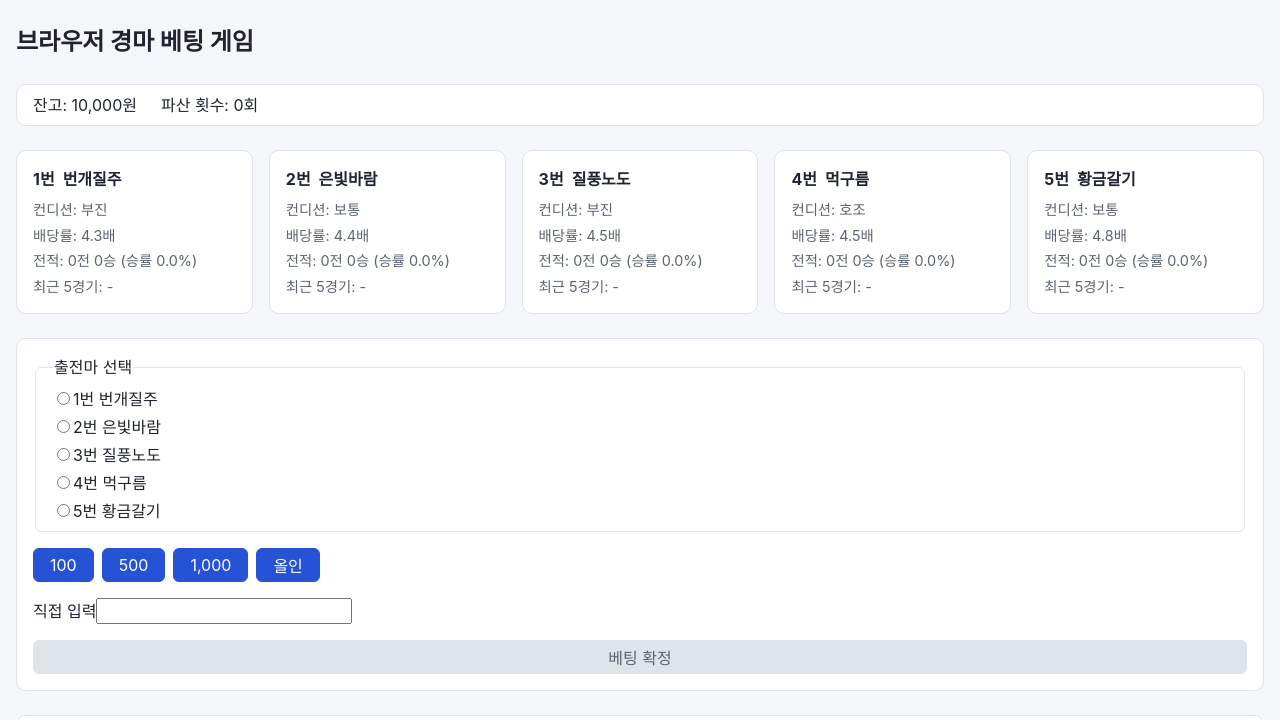
Test: App › 화면 컴포지션: phase에 따라 로비/경주/정산 화면이 조립된다 › countdown→racing→finish→settlement까지 화면이 전환되며 SettlementResult가 적중/지급액/정산 후 잔고를 렌더링한다
Click the radio button labelled "1번 번개질주" at (64, 399), box left=57, top=392, right=70, bottom=405
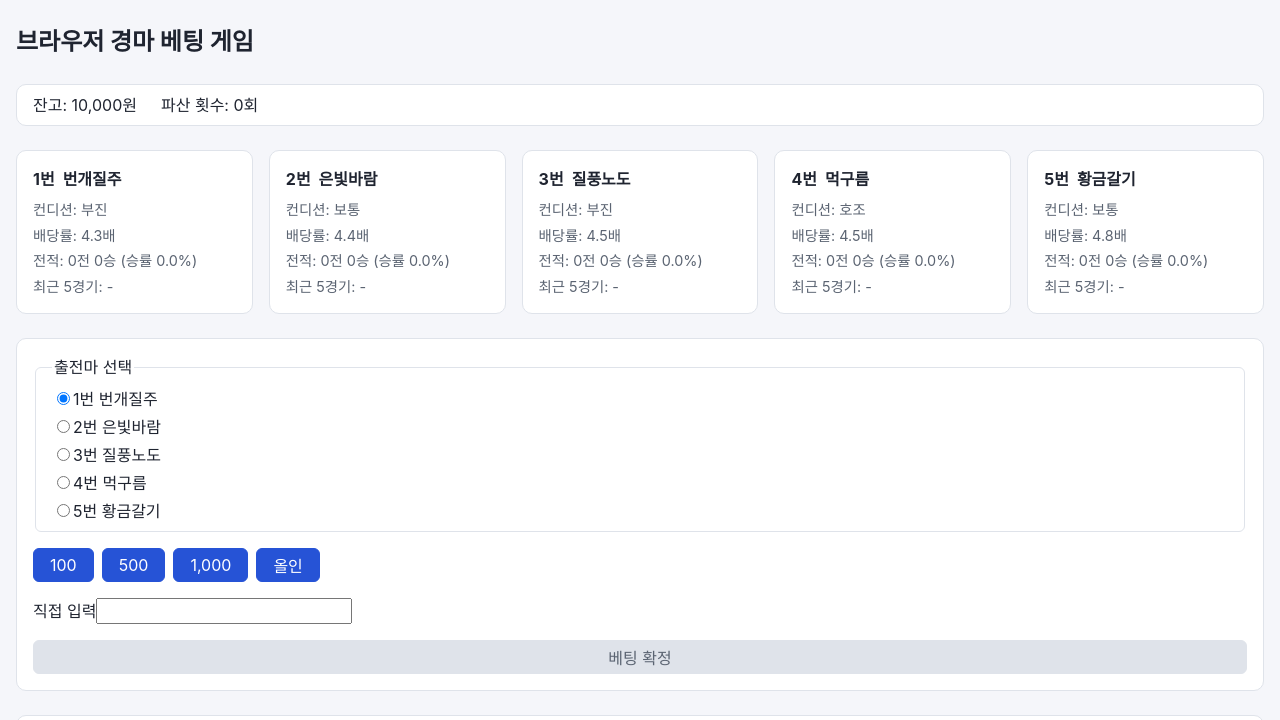
Click the button "100" at (63, 565), box left=33, top=548, right=94, bottom=582
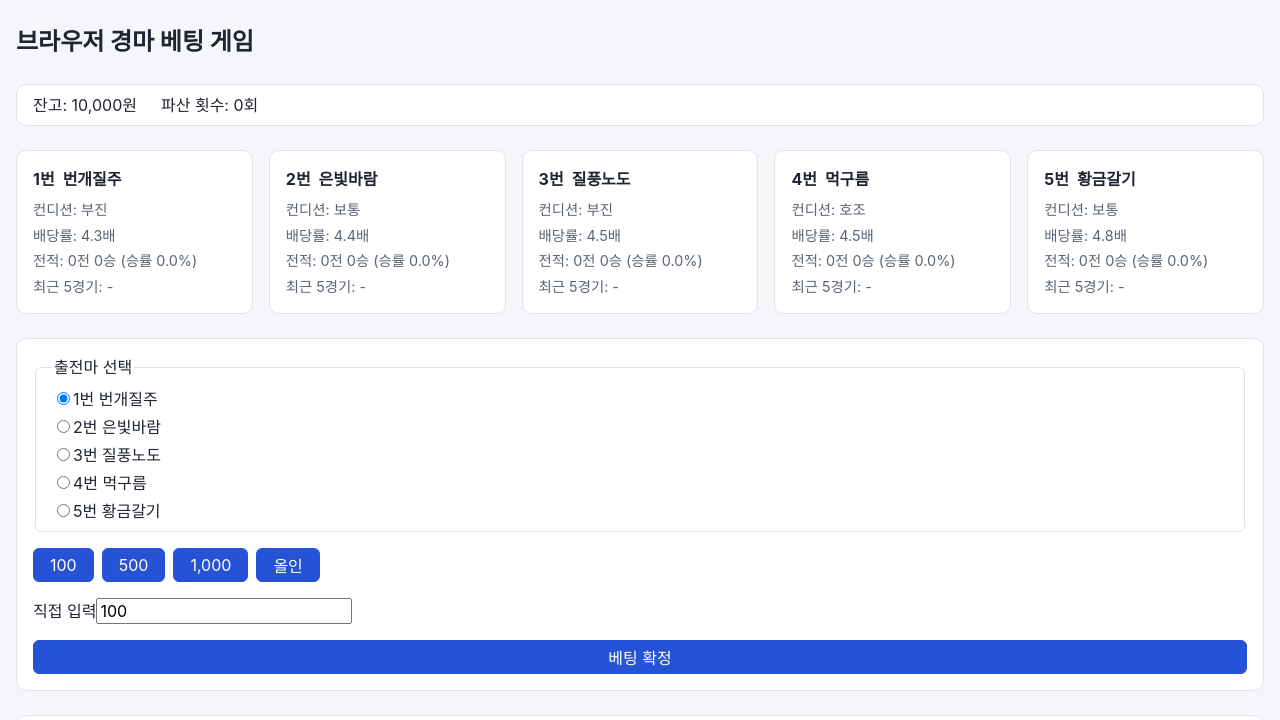
Click the button "베팅 확정" at (640, 657), box left=33, top=640, right=1247, bottom=674
(page scrolled)
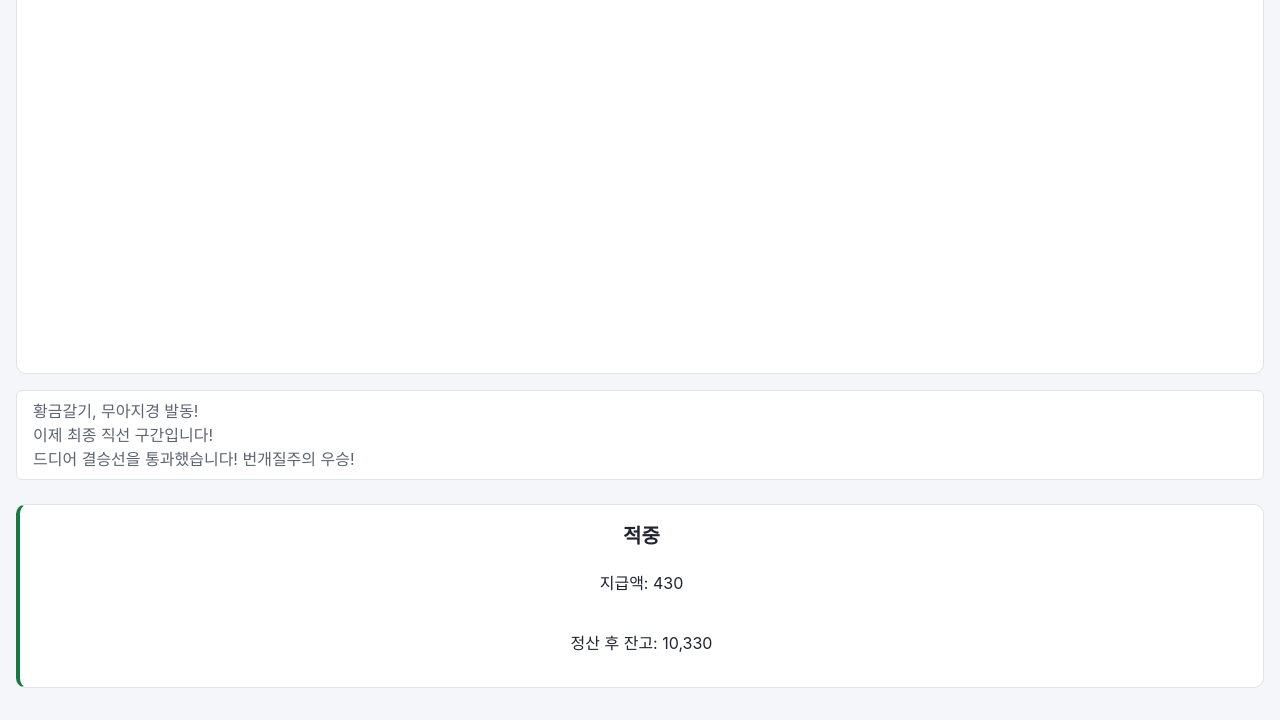
Check: the element named "정산 결과" is shown, box left=16, top=504, right=1264, bottom=688
Check: the text "적중" is shown, box left=623, top=524, right=660, bottom=548
Check: the text "지급액: 430" is shown, box left=600, top=573, right=683, bottom=593
